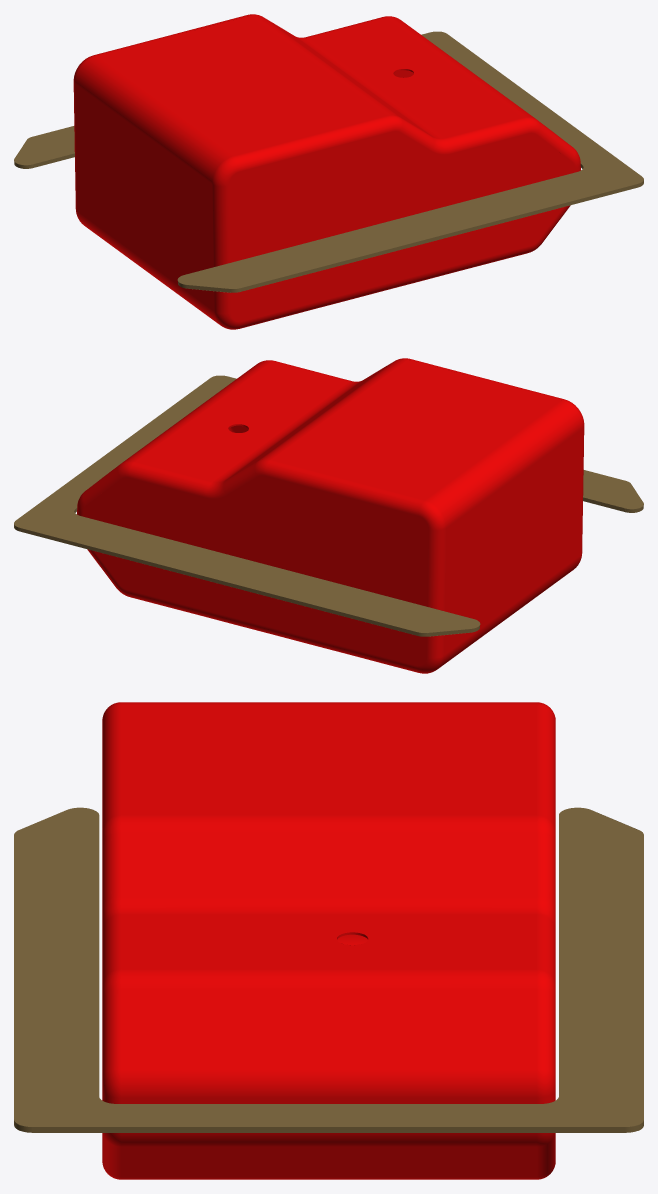
The model's file is extra1.glb.
3 views of the same model, one above another, from view 1: azimuth 30°, elevation 25°; view 2: azimuth 150°, elevation 25°; view 3: azimuth 270°, elevation 25° (orthographic). The views are drawn at different scales.
Parts seen in each view (by area): view 1: object 2, wood; view 2: object 2, wood; view 3: object 2, wood.
Part boxes in pixels (x1,y1,x2,y2): object 2: (73, 14, 580, 329); wood: (14, 31, 643, 292); object 2: (77, 358, 584, 673); wood: (14, 375, 643, 636); object 2: (102, 702, 555, 1179); wood: (14, 807, 643, 1132).
Size of the model in its own units: 0.6234 by 0.2337 by 0.5001.
